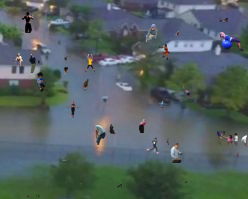Human: (218, 32, 244, 51), (217, 131, 247, 147), (146, 137, 169, 154), (170, 143, 183, 163), (85, 54, 99, 72), (22, 12, 34, 33), (144, 24, 158, 42), (94, 125, 106, 145), (67, 100, 79, 118), (37, 72, 47, 92), (158, 44, 170, 60), (14, 53, 23, 71), (29, 54, 36, 73), (139, 119, 146, 133), (183, 89, 191, 101), (108, 124, 116, 134), (27, 194, 41, 199), (82, 79, 89, 89), (159, 101, 166, 111), (219, 17, 228, 24), (44, 106, 50, 112), (64, 67, 69, 74), (117, 183, 122, 188), (175, 31, 179, 36), (64, 56, 68, 61), (61, 159, 68, 161), (162, 185, 165, 189), (38, 60, 40, 64), (237, 153, 239, 157), (185, 181, 187, 184), (80, 183, 82, 185), (183, 85, 184, 88)
